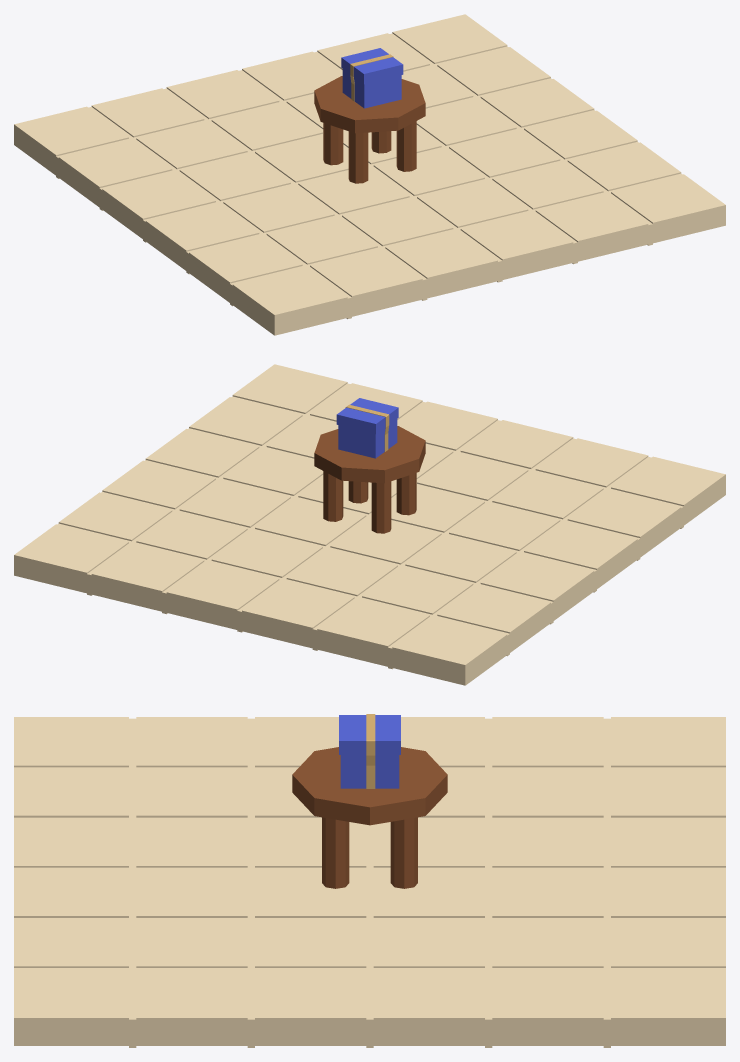
Rendered from table.glb.
3 renders of one model, top to bottom at view 1: azimuth 30°, elevation 25°; view 2: azimuth 150°, elevation 25°; view 3: azimuth 270°, elevation 25°, orthographic. The views are drawn at different scales.
Visible parts, largest first — view 1: Cube, Cube.006, Cube.004, Cube.005; view 2: Cube, Cube.006, Cube.004, Cube.005; view 3: Cube, Cube.006, Cube.005, Cube.004, Circle.
Boxes of the visible parts, x1=… form: Cube: x1=14, y1=14, x2=725, y2=335; Cube.006: x1=314, y1=76, x2=425, y2=183; Cube.004: x1=342, y1=69, x2=401, y2=108; Cube.005: x1=341, y1=48, x2=403, y2=84; Cube: x1=14, y1=364, x2=725, y2=685; Cube.006: x1=314, y1=426, x2=425, y2=533; Cube.004: x1=338, y1=419, x2=397, y2=458; Cube.005: x1=336, y1=398, x2=398, y2=434; Cube: x1=14, y1=717, x2=725, y2=1047; Cube.006: x1=292, y1=747, x2=447, y2=888; Cube.005: x1=339, y1=715, x2=400, y2=754; Cube.004: x1=340, y1=755, x2=399, y2=788; Circle: x1=366, y1=714, x2=375, y2=788.
Size of the model in its own units: 71.73 by 19.08 by 71.73.
